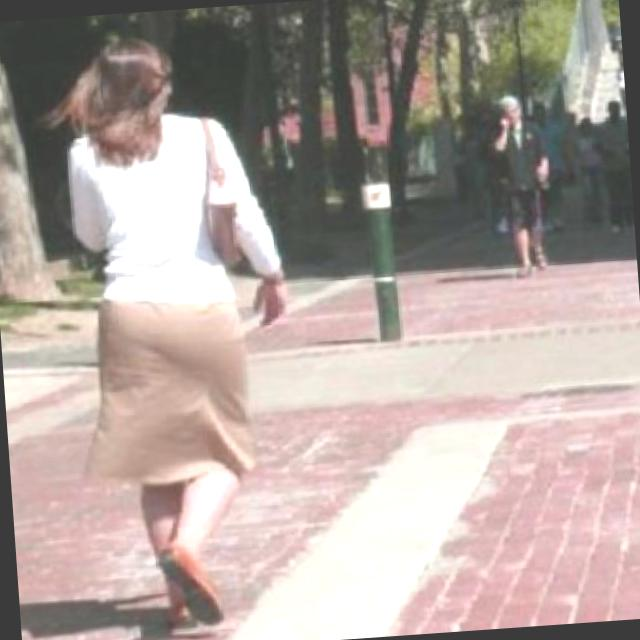Person: (49, 25, 310, 640), (484, 87, 566, 282)
